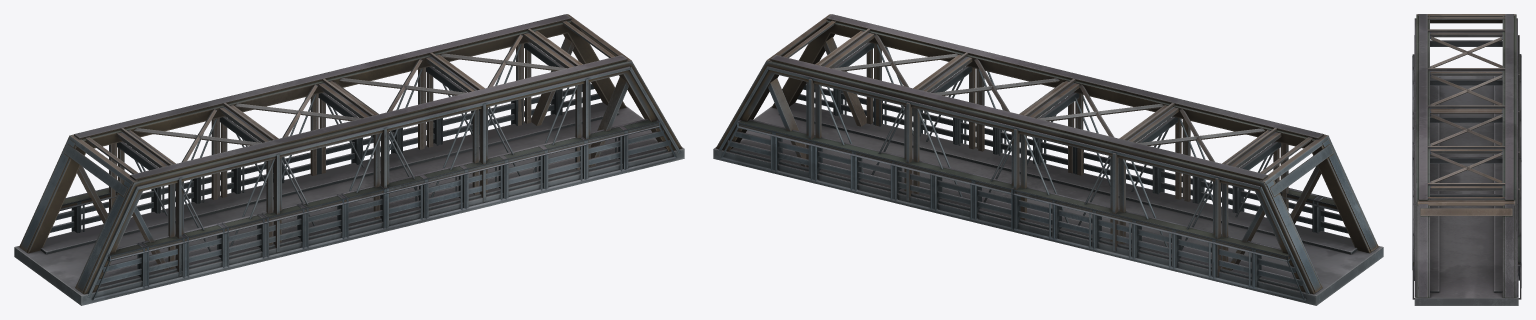
The model's file is stylised_low_poly_-_city_metal_bridge.glb.
3 renders of one model, left to right at view 1: azimuth 30°, elevation 25°; view 2: azimuth 150°, elevation 25°; view 3: azimuth 270°, elevation 25°, orthographic. The views are drawn at different scales.
Parts seen in each view (by area): view 1: Pont.001; view 2: Pont.001; view 3: Pont.001.
Boxes of the visible parts, x1,y1,x2,y2 form: Pont.001: (14,14,684,305); Pont.001: (713,14,1383,305); Pont.001: (1412,14,1521,305).
Bounding box in the file's own units: 19.98 × 3.51 × 4.07.
4 materials, 4 textured.
